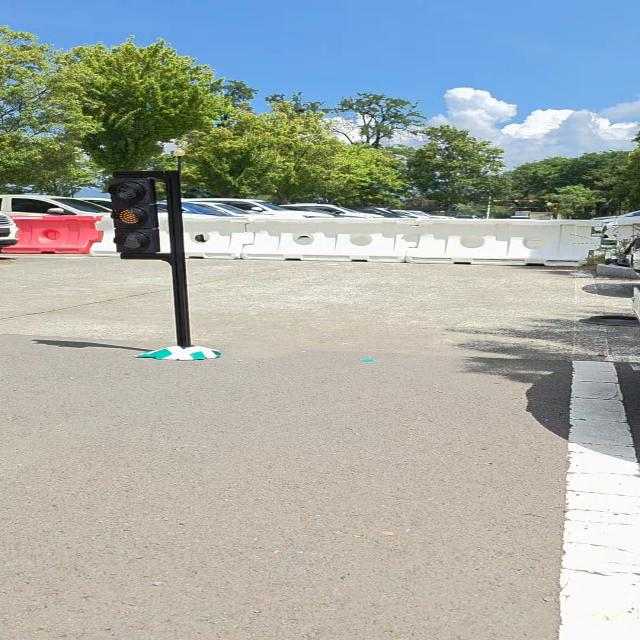yellow: (109, 178, 163, 253)
